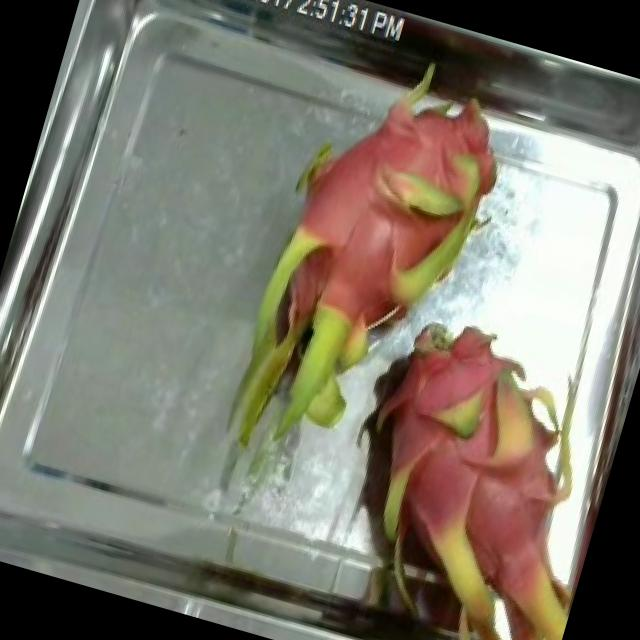Fruit: (342, 68, 528, 245)
